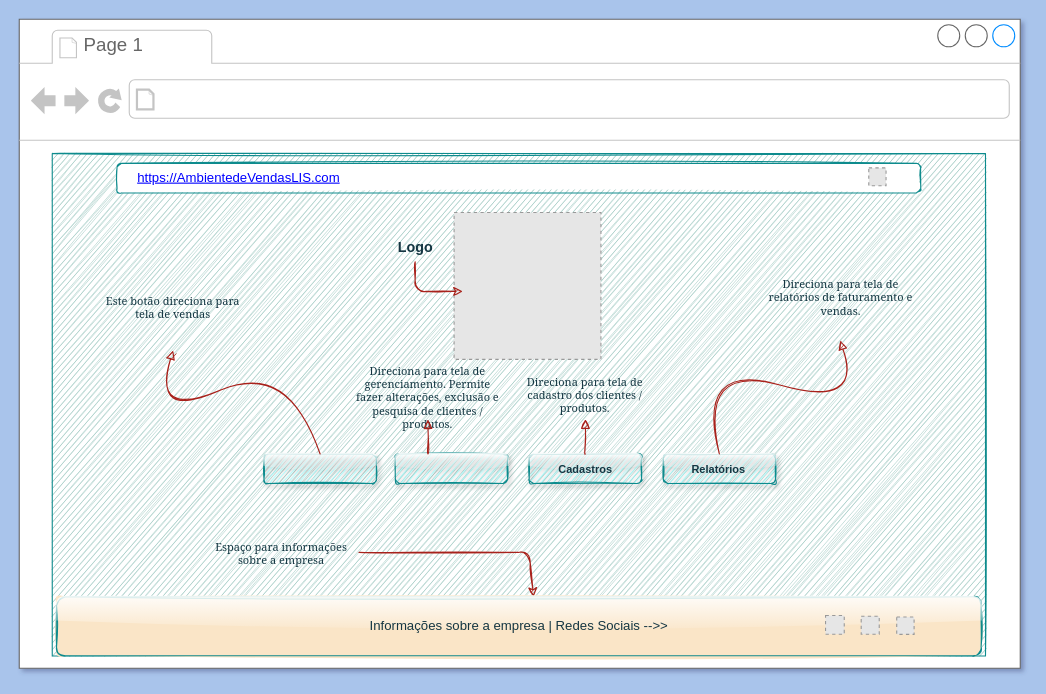
This 1046x694 diagram has some shape labels left out. Grey dashed boxes stand in for pictures. The shapes that lost their labels are listed below. From the top down, each one's centre as x and y in pixels, then its label:
point (320, 469): Vendas
point (452, 469): Gerenciador
